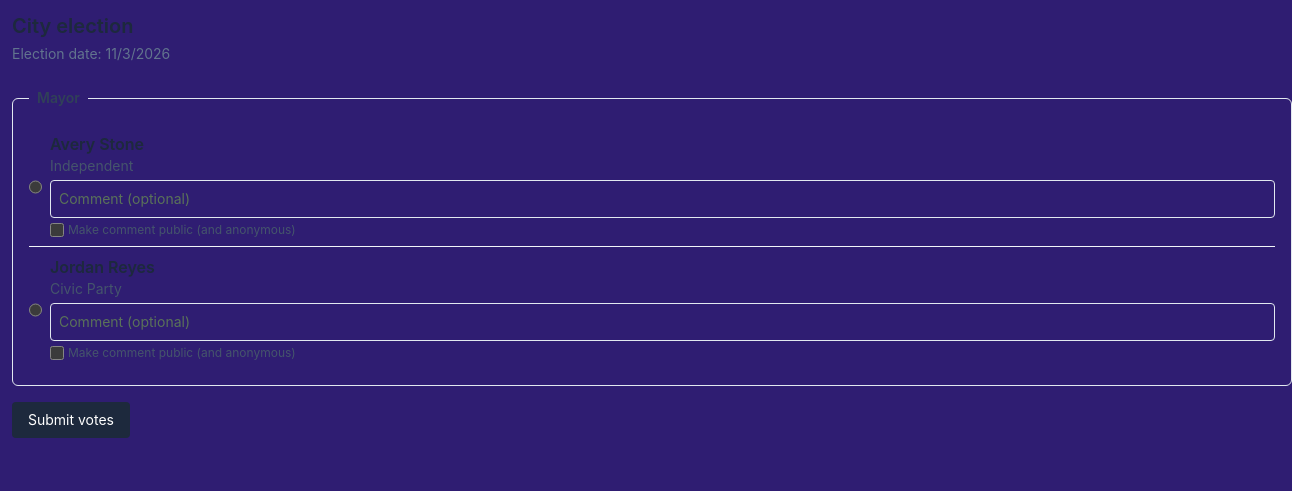
Test: ElectionResponseForm: an office still to choose › a failed submission is shown by the button, without hiding the form
Click the radio button with id "candidate-11" at (36, 187), box [29, 136, 42, 238]
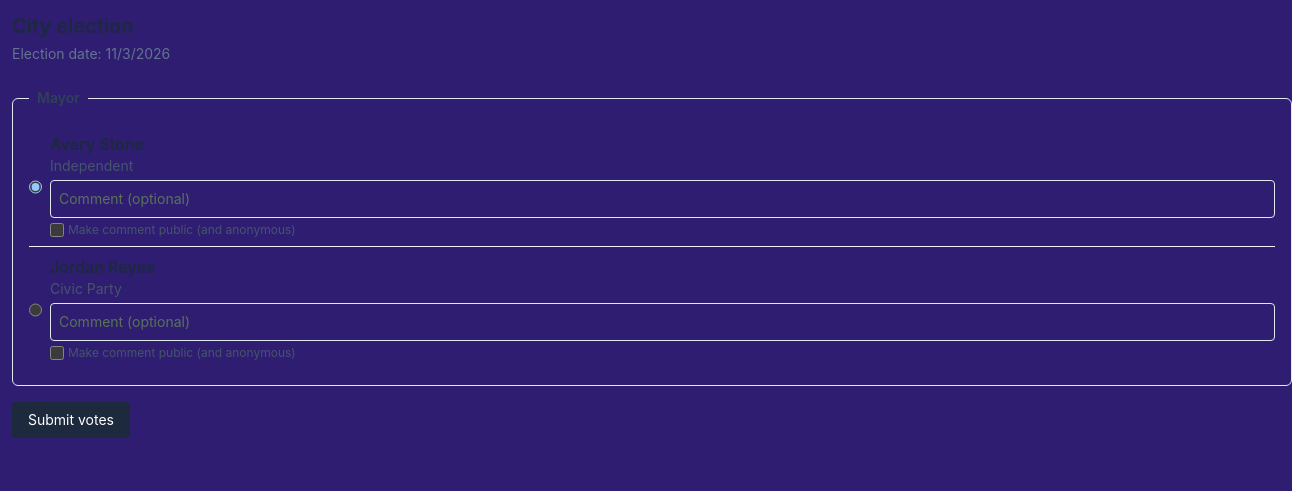
Click the button "Submit votes" at (71, 420), box [12, 402, 130, 438]
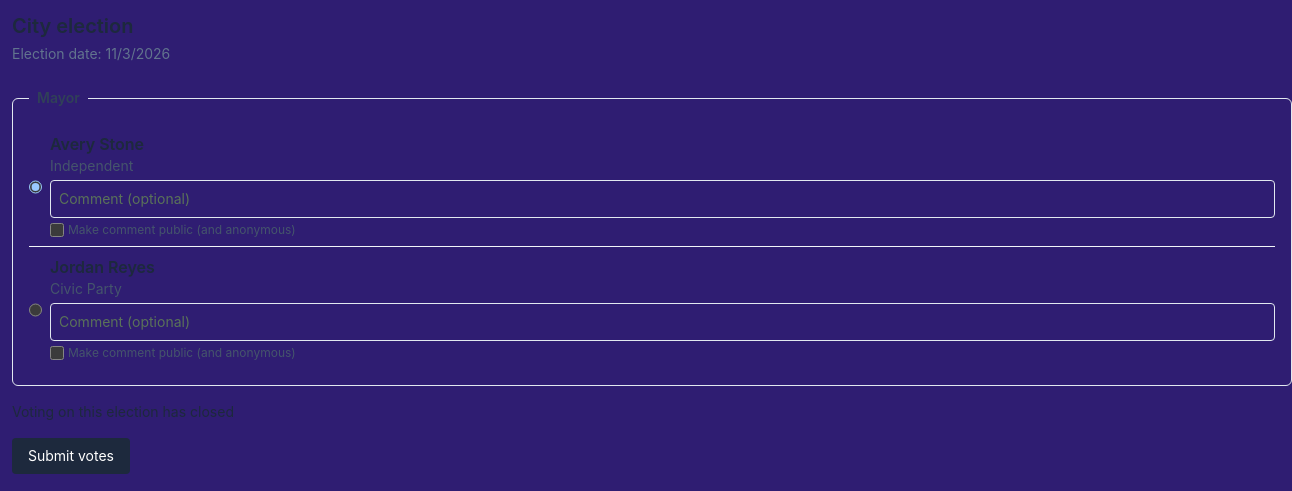
Expected: the radio button with id "candidate-11" is shown, [29, 136, 42, 238]
Now the message with test id "submit-error" reads "Voting on this election has closed", box [12, 403, 234, 420]
